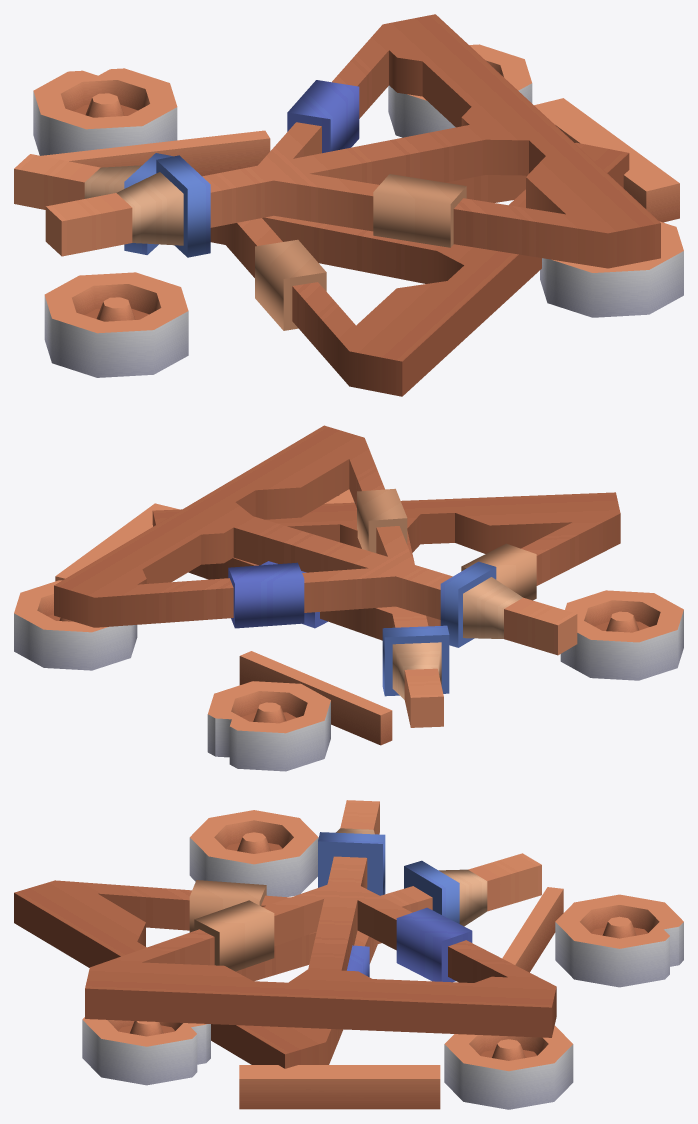
Rendered from siege-trebuchet-demolished.glb.
3 renders of one model, top to bottom at view 1: azimuth 30°, elevation 25°; view 2: azimuth 150°, elevation 25°; view 3: azimuth 270°, elevation 25°, orthographic. The views are drawn at different scales.
Parts seen in each view (by area): view 1: siege-trebuchet-demolished; view 2: siege-trebuchet-demolished; view 3: siege-trebuchet-demolished.
Boxes of the visible parts, <box> form: siege-trebuchet-demolished: <box>14,14,683,396</box>; siege-trebuchet-demolished: <box>14,425,683,771</box>; siege-trebuchet-demolished: <box>14,800,683,1109</box>.
Bounding box in the file's own units: 1.93 × 0.3097 × 2.1.
Materials: 1 (1 with a texture image).
